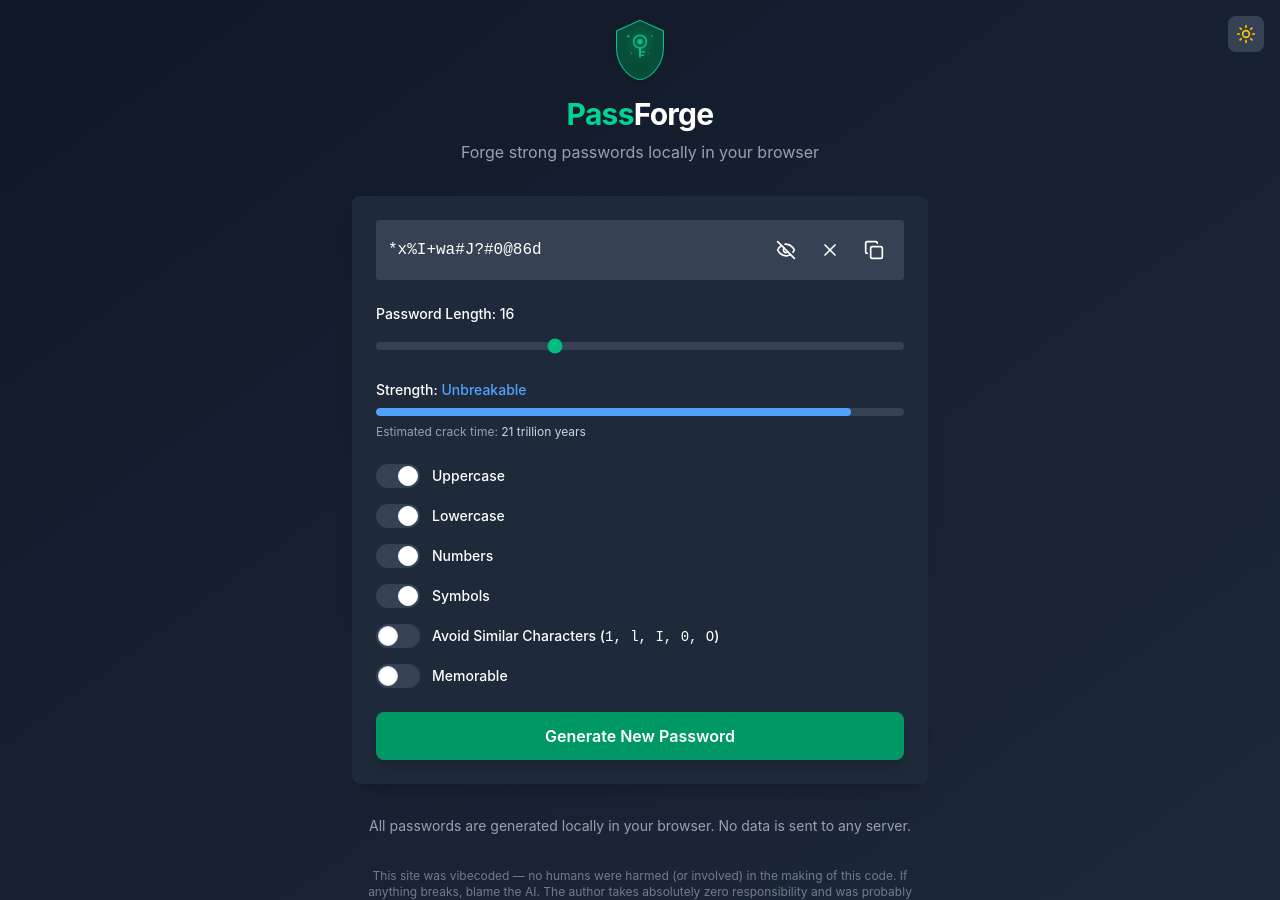
Test: App component › shows clipboard countdown after copying
The image size is (1280, 900).
Step 1. Click the button titled "Copy to clipboard (Ctrl+C)" → {"x": 874, "y": 250}, box 856,232 -> 892,268
Wait 1000 ms
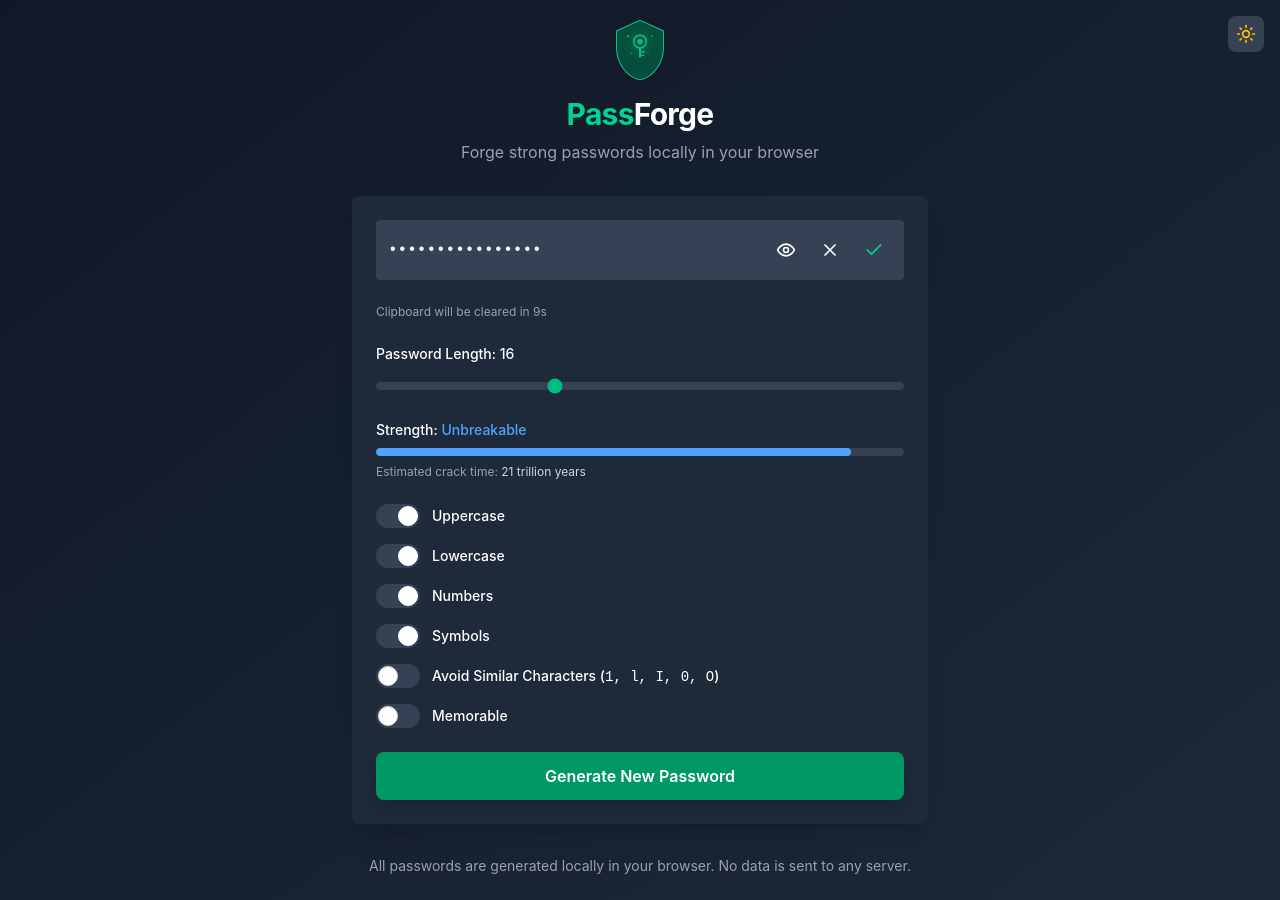
Check: the text "Clipboard will be cleared in 9s" is shown, box 376,304 -> 547,319
